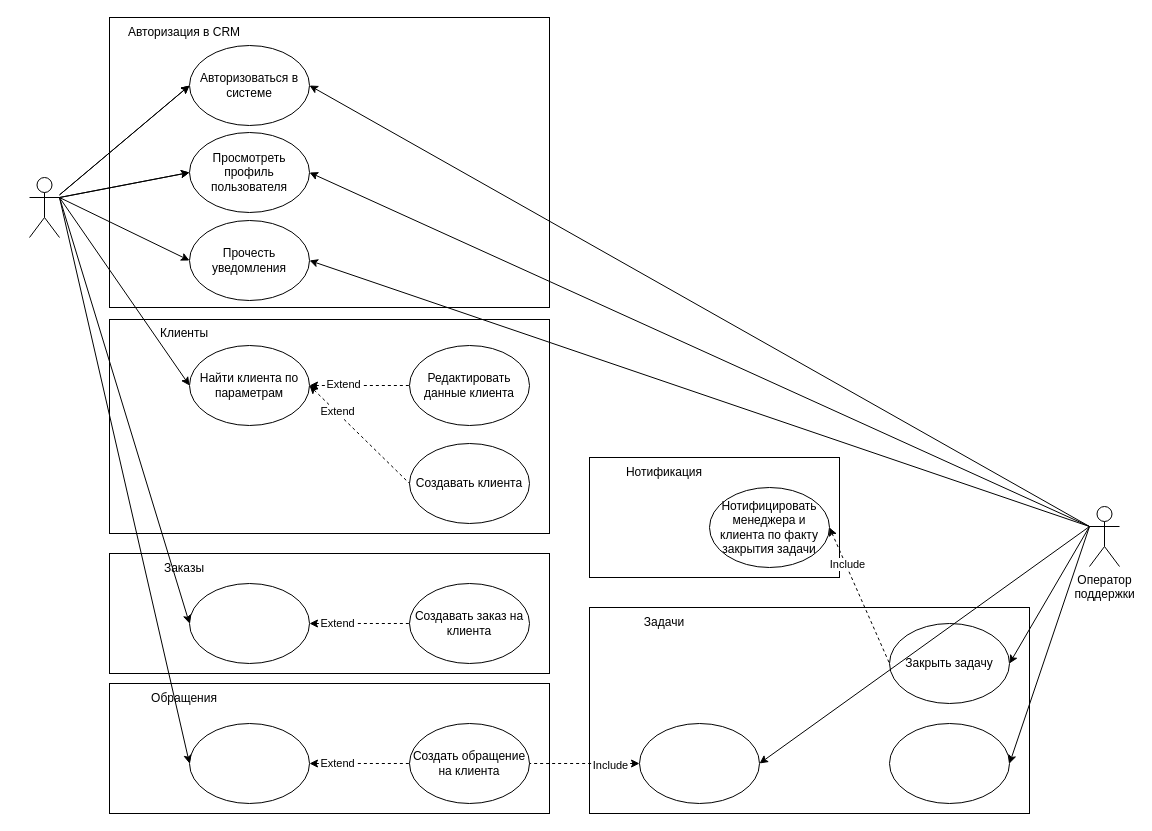
Some shapes in this 1152 by 831 pixel diagram are drawn without their labels. Here are the shapes that lost their labels. From the top down, the centre of each, then its label:
At [44,207]: "Оператор".
At [249,623]: "Найти заказ по клиенту или др параметрам".
At [249,763]: "Найти обращение".
At [699,763]: "Создать задачу".
At [949,763]: "Редактировать задачу".
